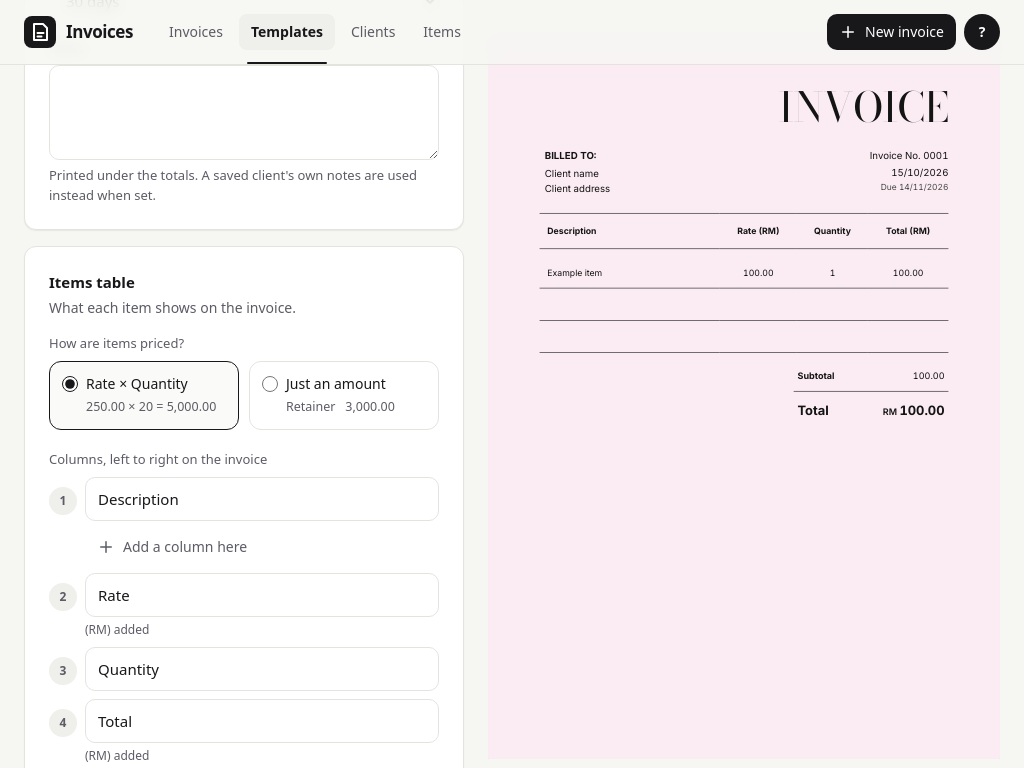
Test: template editor › can show just one amount per item
The width and height of the screenshot is (1024, 768).
(page scrolled)
Step 1. Click the radio button labelled "Just an amount" → (270, 384), box [262,376,278,392]
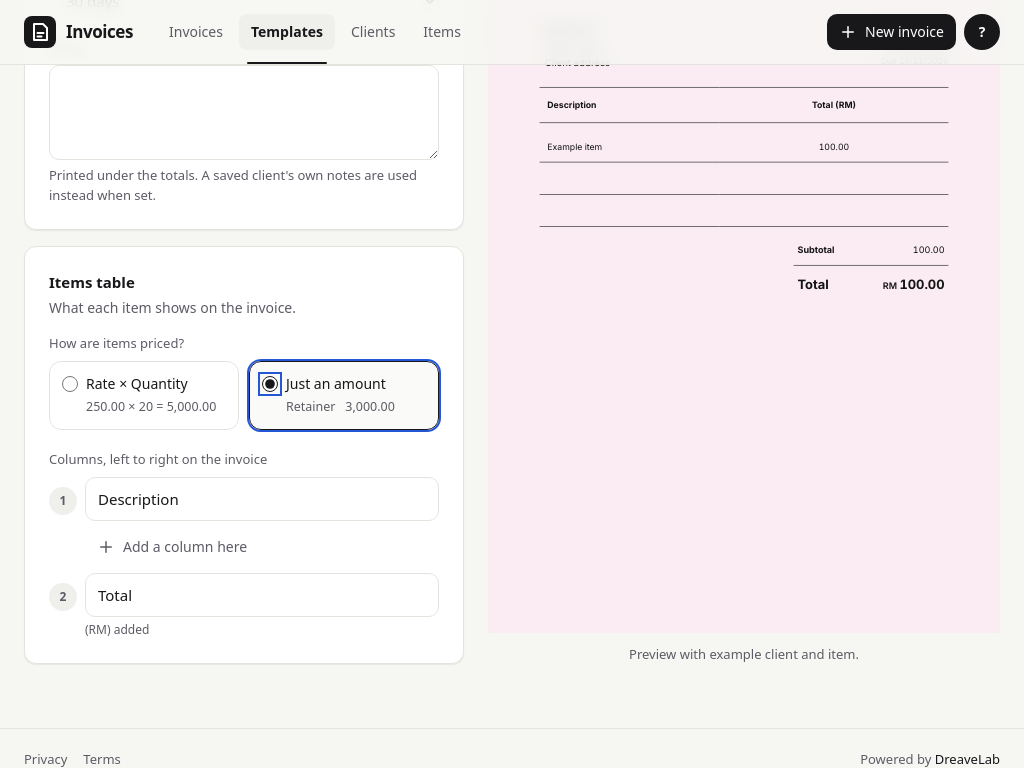
Expected: the field labelled "Rate column heading" is not shown
Expected: the radio button labelled "Just an amount" is checked, [262,376,278,392]
